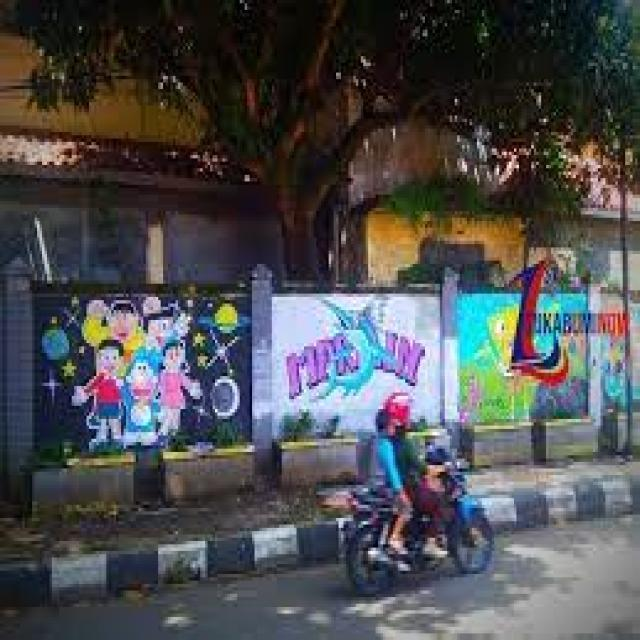-: (36, 290, 248, 441), (456, 296, 592, 422), (286, 307, 426, 401)
